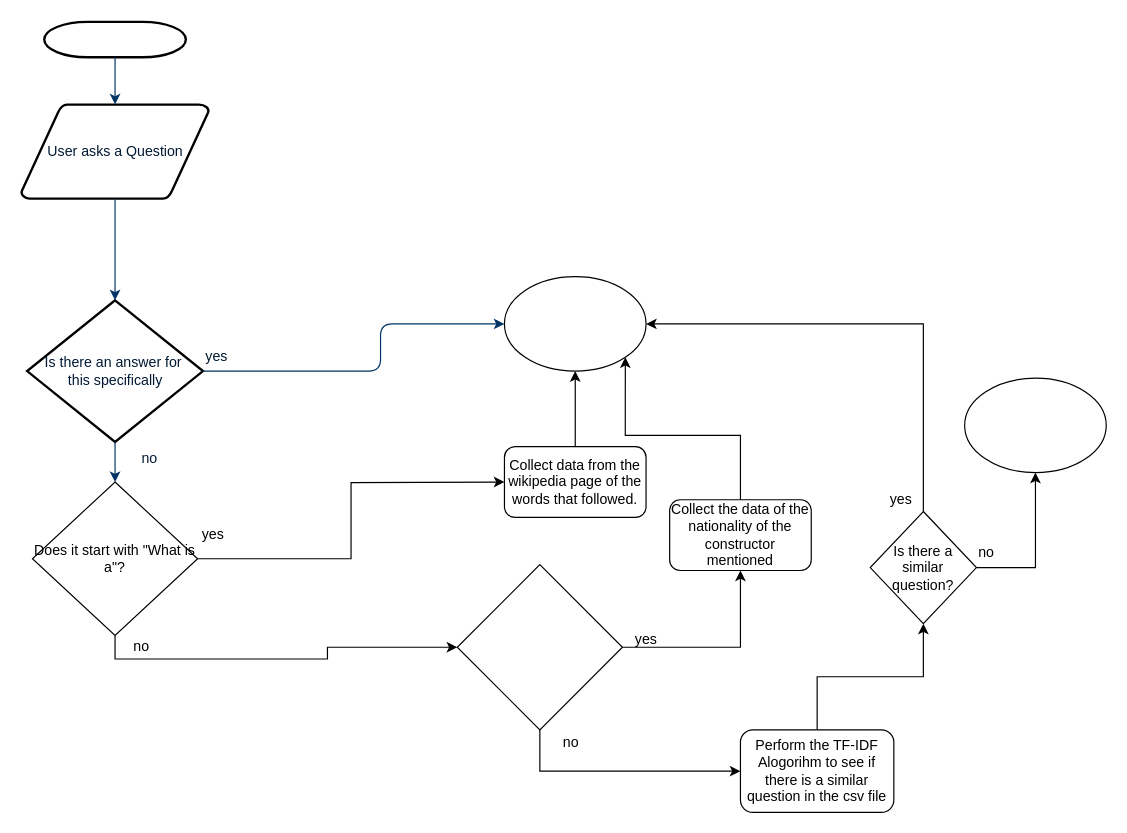
This 1127x833 diagram has some shape labels left out. Here are the shapes that lost their labels. From the top down, the centre of each, then its label:
point (114, 39): start
point (574, 323): Output the answer
point (1034, 425): Inform the user that there was an issue finding an answer
point (539, 646): Does the question start with "What nationality is"
